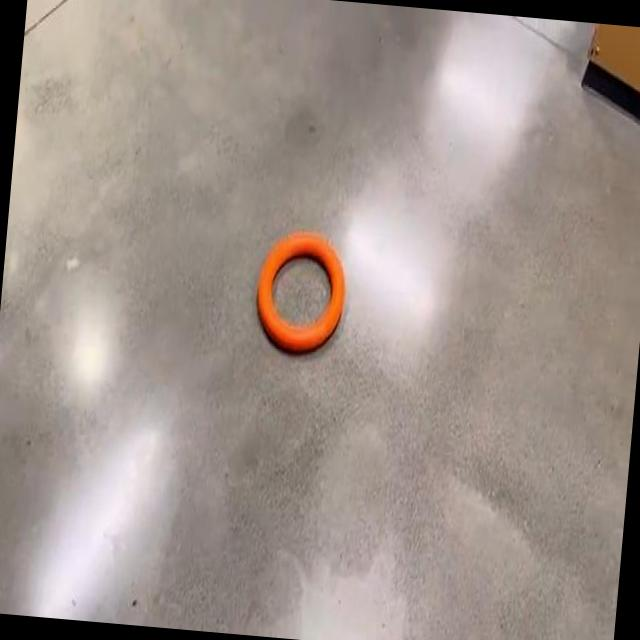note: (257, 231, 345, 351)
